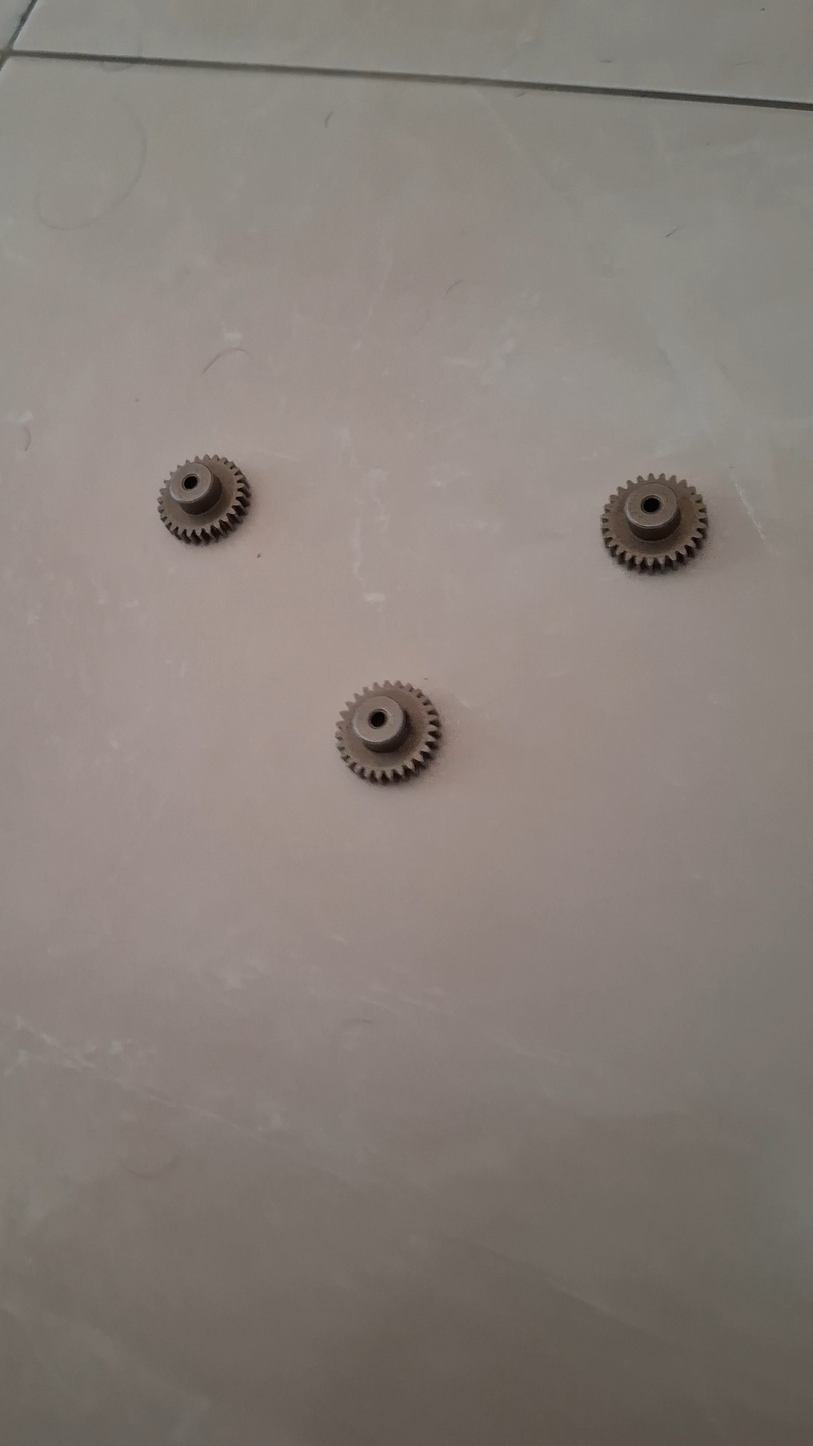spur gear: (601, 474, 708, 571), (336, 682, 439, 782), (158, 455, 250, 544)
